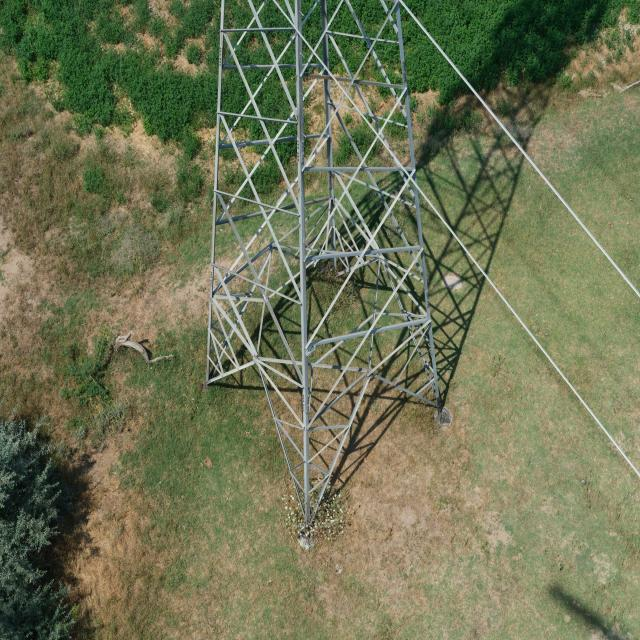direk: (199, 0, 442, 530)
